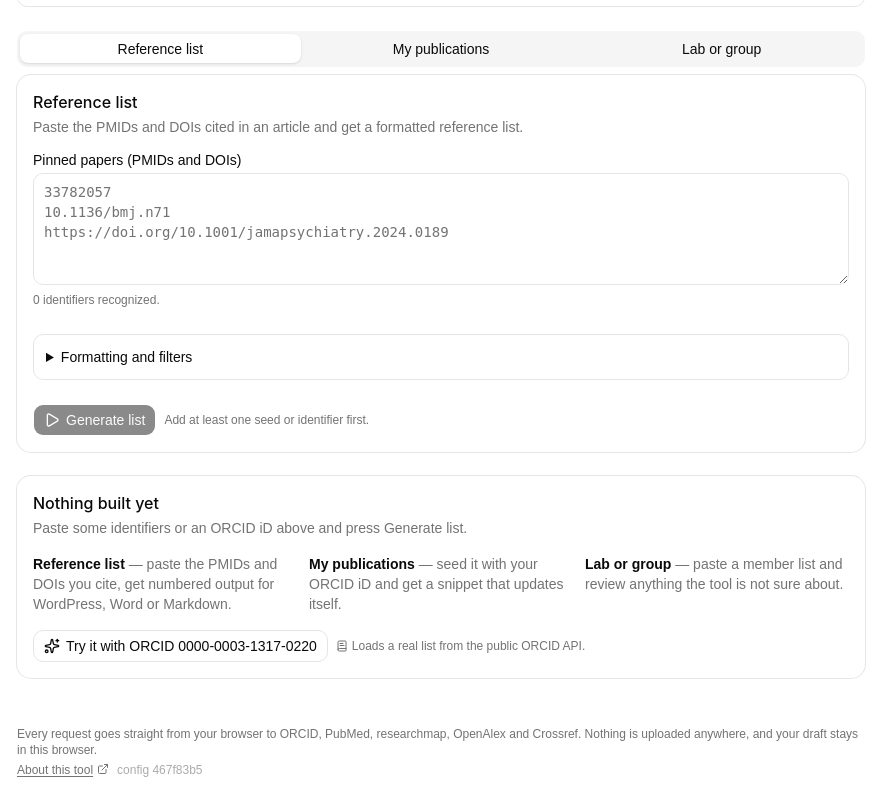
Scenario: the credit checkbox on the generated snippet › is on by default and produces exactly one credit block
(page scrolled)
Click the button "Try it with ORCID 0000-0003-1317-0220" at coordinates (180, 646), box [33,630,328,662]
(page scrolled)
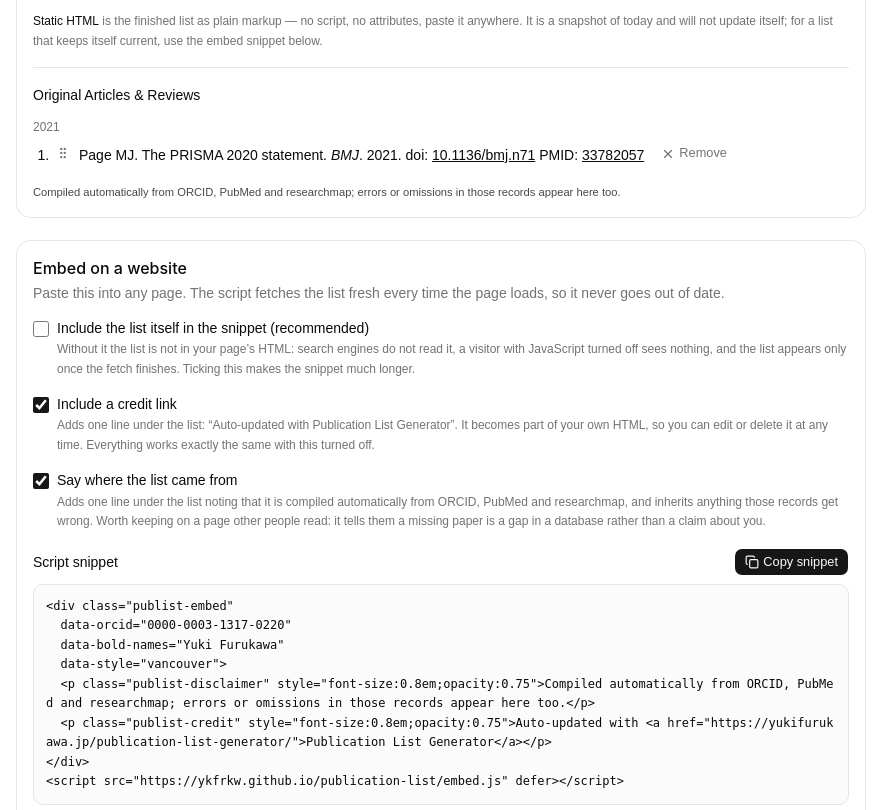
Now the checkbox labelled "Include a credit link" is checked, box [33,397,49,413]
